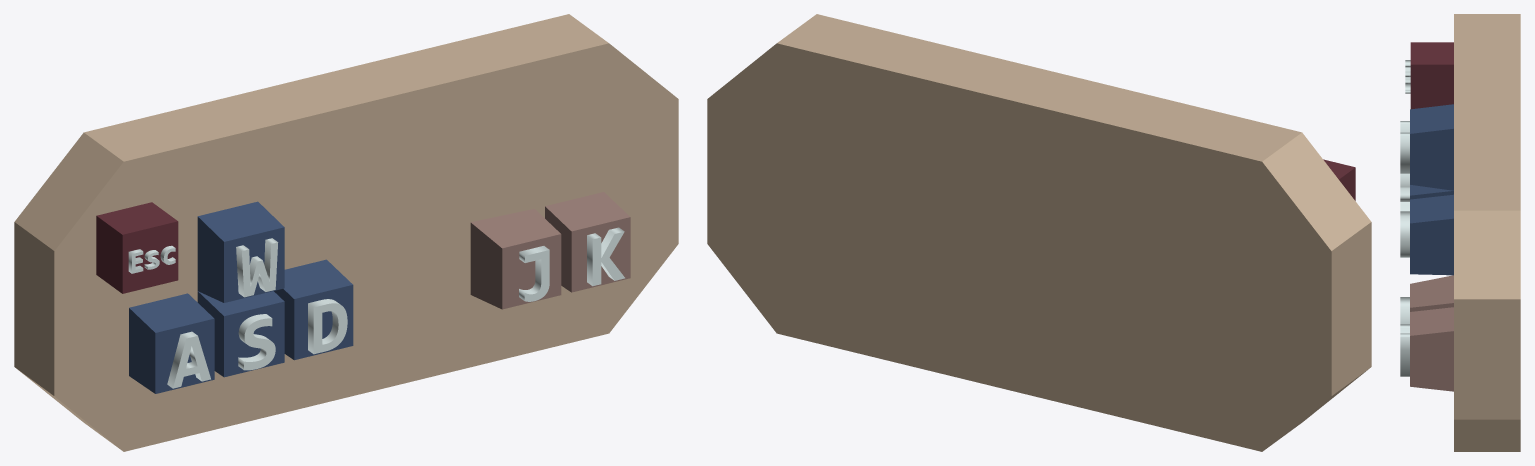
The model's file is keyboard.fbx.
3 views of the same model, side by side, from view 1: azimuth 30°, elevation 25°; view 2: azimuth 150°, elevation 25°; view 3: azimuth 270°, elevation 25° (orthographic). The views are drawn at different scales.
Visible parts, largest first — view 1: Keyboard, Key_W, Key_D, Key_K, Key_A, Key_S, Key_J, Key_Esc; view 2: Keyboard; view 3: Keyboard, Key_W, Key_K, Key_D, Key_J, Key_S, Key_Esc, Key_A.
Boxes of the visible parts, x1,y1,x2,y2 form: Keyboard: (14, 14, 678, 451); Key_W: (236, 238, 278, 297); Key_D: (308, 299, 347, 354); Key_K: (587, 227, 624, 286); Key_A: (167, 331, 210, 388); Key_S: (238, 314, 275, 370); Key_J: (519, 246, 549, 301); Key_Esc: (128, 245, 175, 273); Keyboard: (707, 14, 1371, 451); Keyboard: (1410, 14, 1520, 451); Key_W: (1400, 121, 1409, 173); Key_K: (1400, 324, 1409, 376); Key_D: (1400, 211, 1409, 257); Key_J: (1400, 297, 1409, 324); Key_S: (1400, 187, 1409, 211); Key_Esc: (1405, 60, 1410, 93); Key_A: (1400, 173, 1409, 187).
Size of the model in its own units: 99.99 by 44.44 by 20.06.
